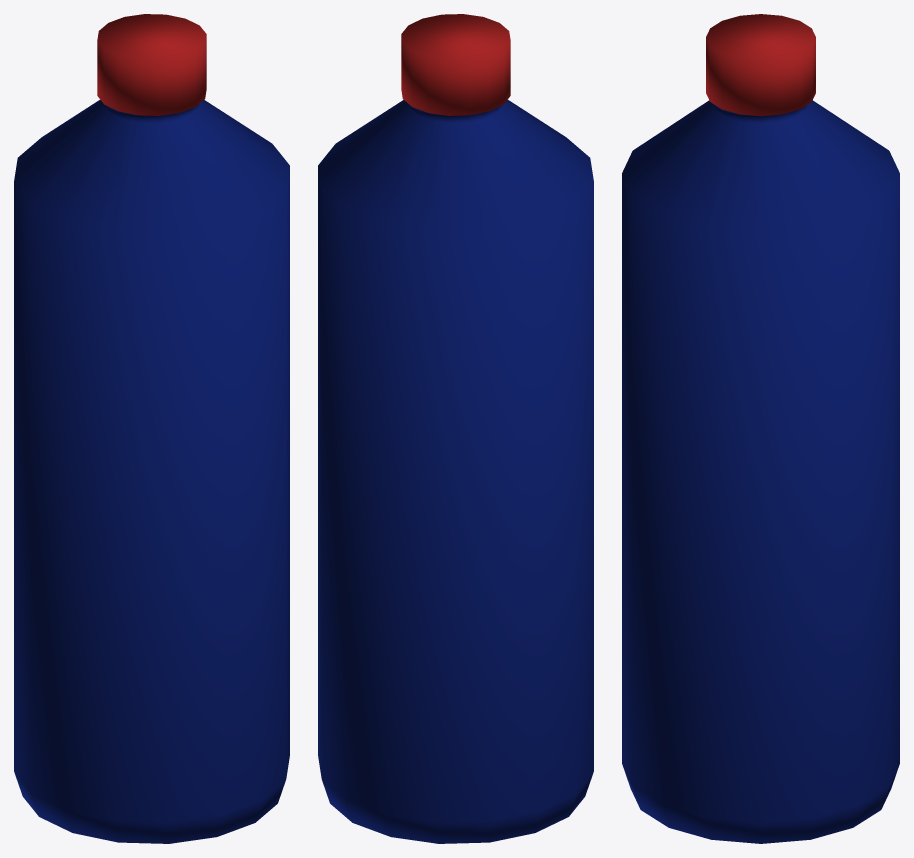
The model's file is Cleaning_Bottle_3.fbx.
3 renders of one model, left to right at view 1: azimuth 30°, elevation 25°; view 2: azimuth 150°, elevation 25°; view 3: azimuth 270°, elevation 25°, orthographic.
Visible parts, largest first — view 1: Cylinder.034; view 2: Cylinder.034; view 3: Cylinder.034.
Boxes of the visible parts, x1,y1,x2,y2 form: Cylinder.034: (14,14,289,843); Cylinder.034: (318,14,593,843); Cylinder.034: (622,14,899,843).
Bounding box in the file's own units: 10.96 × 32.73 × 10.96.
